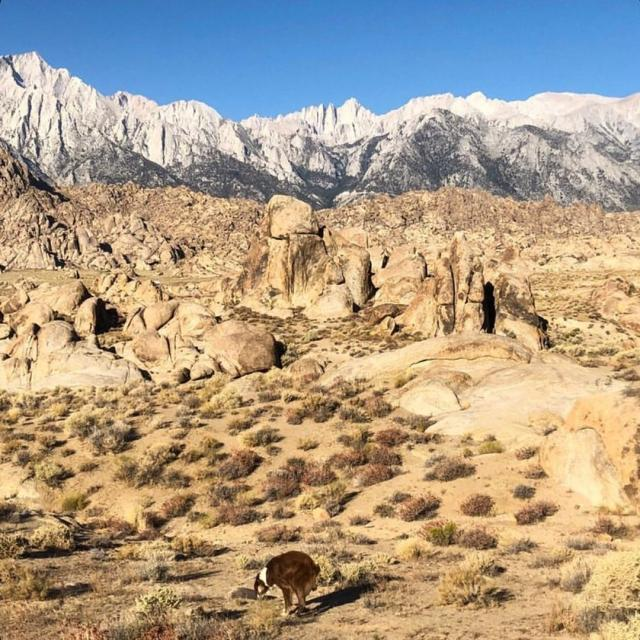squatting: (248, 544, 337, 622)
